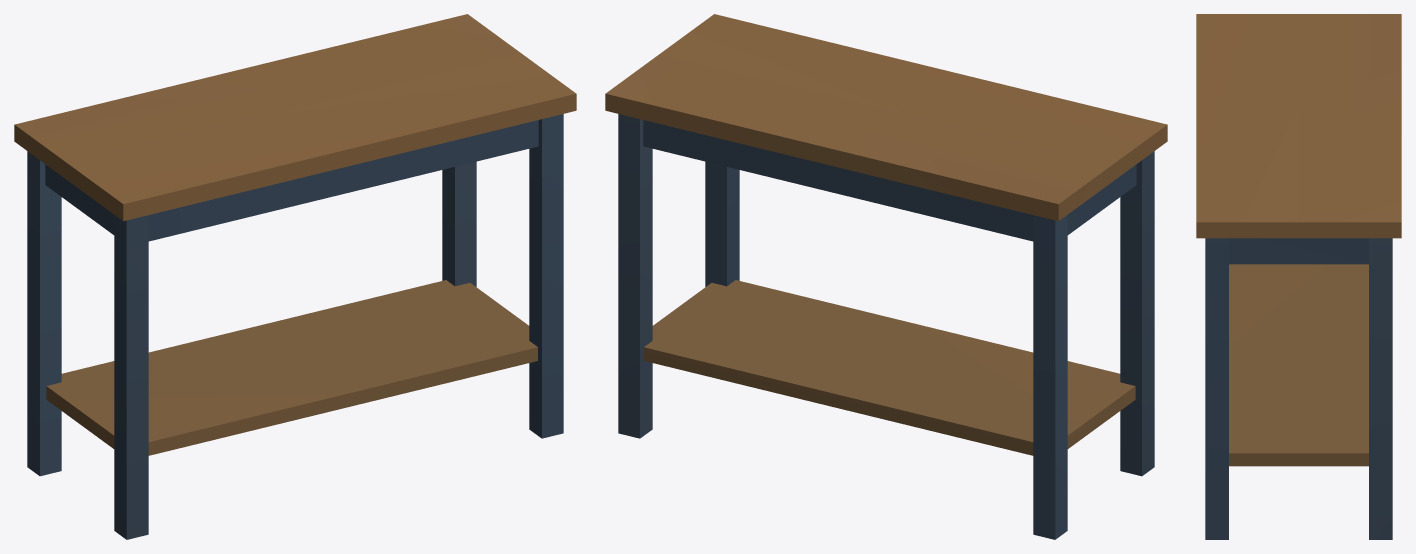
The model's file is table.console.blue.glb.
3 views of the same model, side by side, from view 1: azimuth 30°, elevation 25°; view 2: azimuth 150°, elevation 25°; view 3: azimuth 270°, elevation 25° (orthographic). The views are drawn at different scales.
Parts seen in each view (by area): view 1: table_console_blue; view 2: table_console_blue; view 3: table_console_blue.
Part boxes in pixels (box(x1,y1,x2,y2)): table_console_blue: box(14, 14, 576, 539); table_console_blue: box(605, 14, 1167, 539); table_console_blue: box(1196, 14, 1401, 539).
Size of what is drawn, in the model's own units: 0.834 by 0.6 by 0.347.
